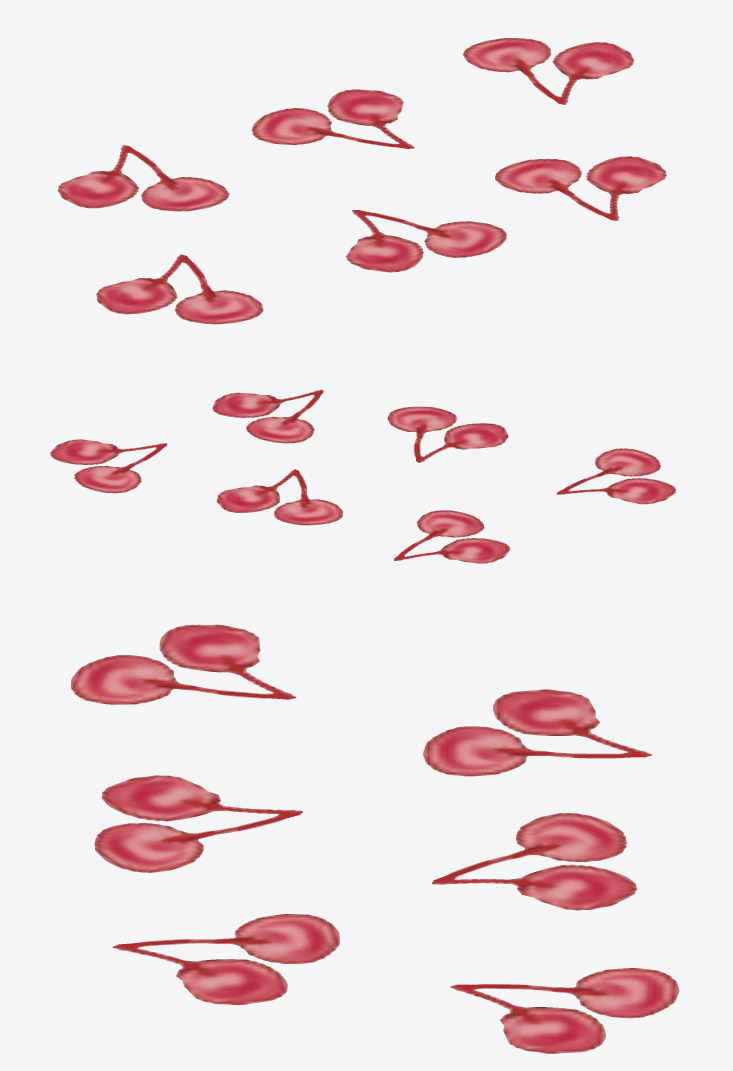
The model's file is giftgoods111i.fbx.
The picture shows the model from 3 angles, top to bottom: view 1: azimuth 30°, elevation 25°; view 2: azimuth 150°, elevation 25°; view 3: azimuth 270°, elevation 25°; orthographic projection. The views are drawn at different scales.
Parts seen in each view (by area): view 1: giftgoods111I; view 2: giftgoods111I; view 3: giftgoods111I.
Boxes of the visible parts, x1,y1,x2,y2 form: giftgoods111I: [57, 38, 666, 324]; giftgoods111I: [50, 389, 676, 563]; giftgoods111I: [70, 624, 679, 1053].
Size of the model in its own units: 0.5975 by 0.00511 by 0.4013.
